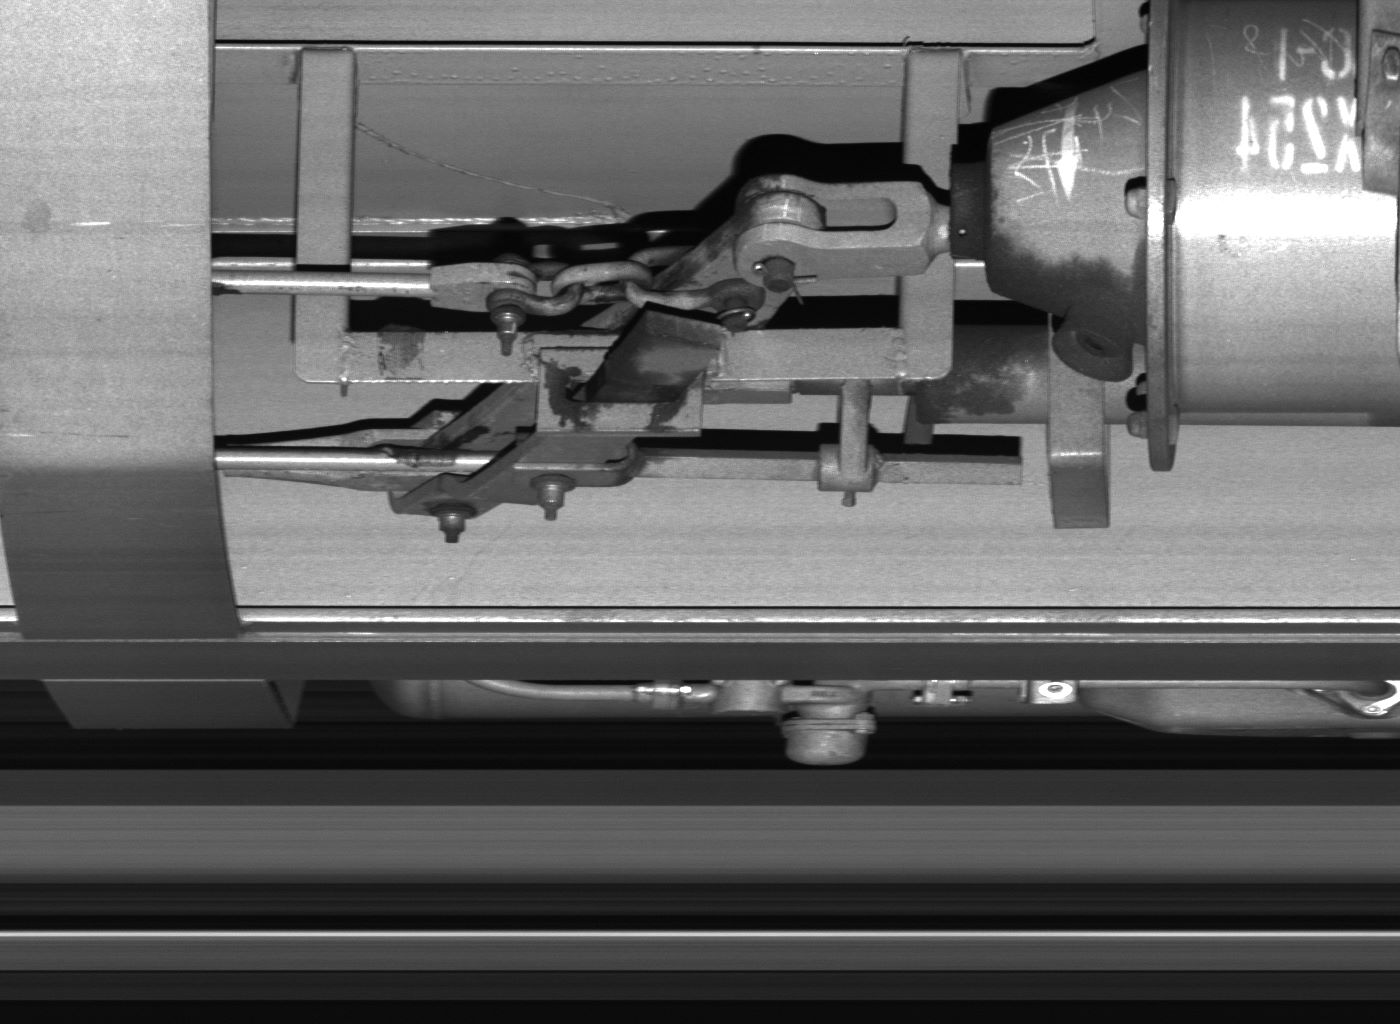normal: (704, 679, 797, 716)
